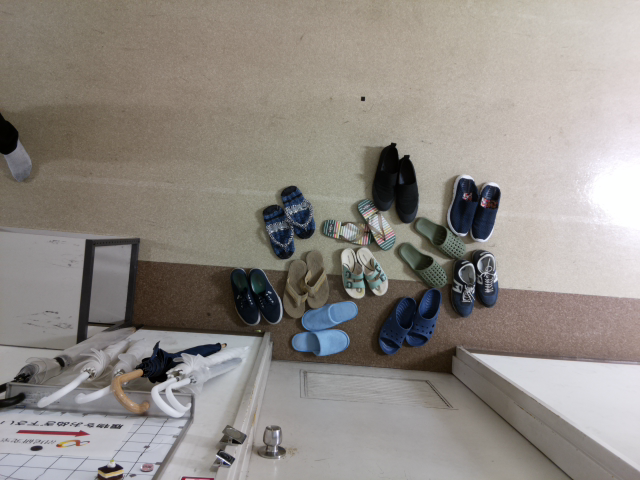Copy of Copy of Copy of Copy of Copy of Copy of Copy of Copy of Copy of Copy of: (374, 292, 418, 355), (403, 284, 443, 348), (397, 239, 448, 288), (414, 215, 467, 261), (355, 196, 396, 254), (299, 296, 359, 334), (288, 325, 352, 358), (353, 245, 390, 298), (337, 244, 369, 301), (282, 257, 310, 320), (300, 248, 328, 310), (320, 217, 377, 247)
Copy of Copy of Copy of Copy of Copy of Copy of Copy of Copy of Copy of shoe: (246, 265, 285, 326)
Copy of Copy of Copy of Copy of Copy of Copy of Copy of Copy of shoe: (225, 265, 262, 329)
Copy of Copy of Copy of Copy of Copy of Copy of Copy of shoe: (261, 200, 298, 260)
Copy of Copy of Copy of Copy of Copy of Copy of shoe: (278, 182, 317, 240)
Copy of Copy of Copy of Copy of Copy of shoe: (369, 140, 403, 211)
Copy of Copy of Copy of Copy of shoe: (392, 154, 426, 225)
Copy of Copy of Copy of shoe: (445, 256, 480, 321)
Copy of Copy of shoe: (469, 245, 503, 309)
Copy of shoe: (446, 171, 480, 235)
shoe: (469, 180, 504, 245)
